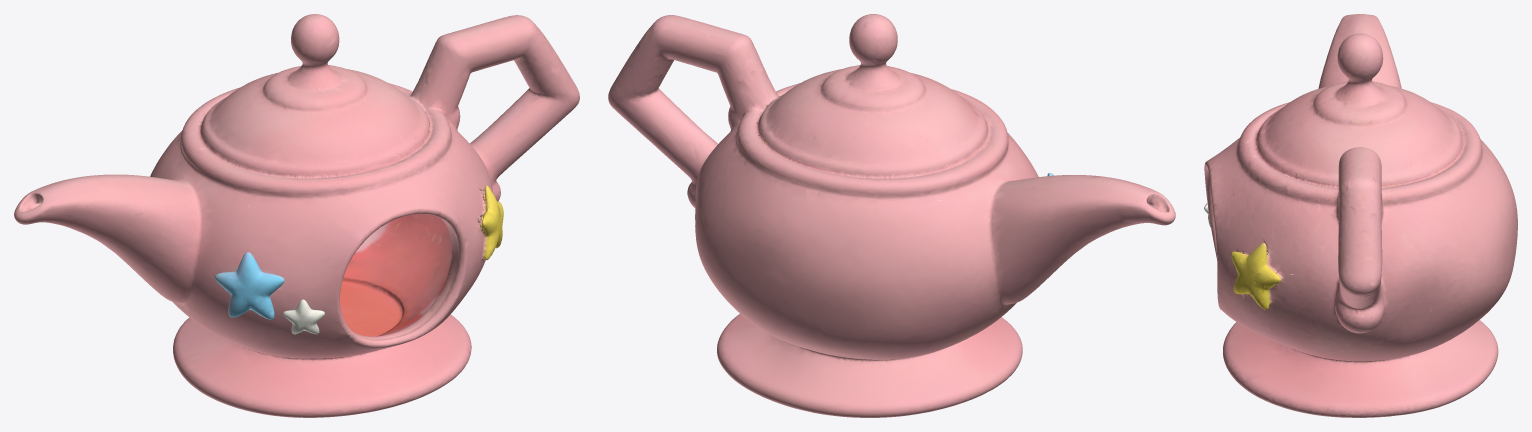
The model's file is raw.glb.
3 views of the same model, side by side, from view 1: azimuth 30°, elevation 25°; view 2: azimuth 150°, elevation 25°; view 3: azimuth 270°, elevation 25° (orthographic). The views are drawn at different scales.
Visible parts, largest first — view 1: Mesh_0; view 2: Mesh_0; view 3: Mesh_0.
Boxes of the visible parts, x1,y1,x2,y2 form: Mesh_0: [14, 14, 579, 417]; Mesh_0: [608, 14, 1175, 417]; Mesh_0: [1204, 14, 1517, 417].
Bounding box in the file's own units: 1.91 × 1.11 × 0.9832.
1 material, 1 textured.
